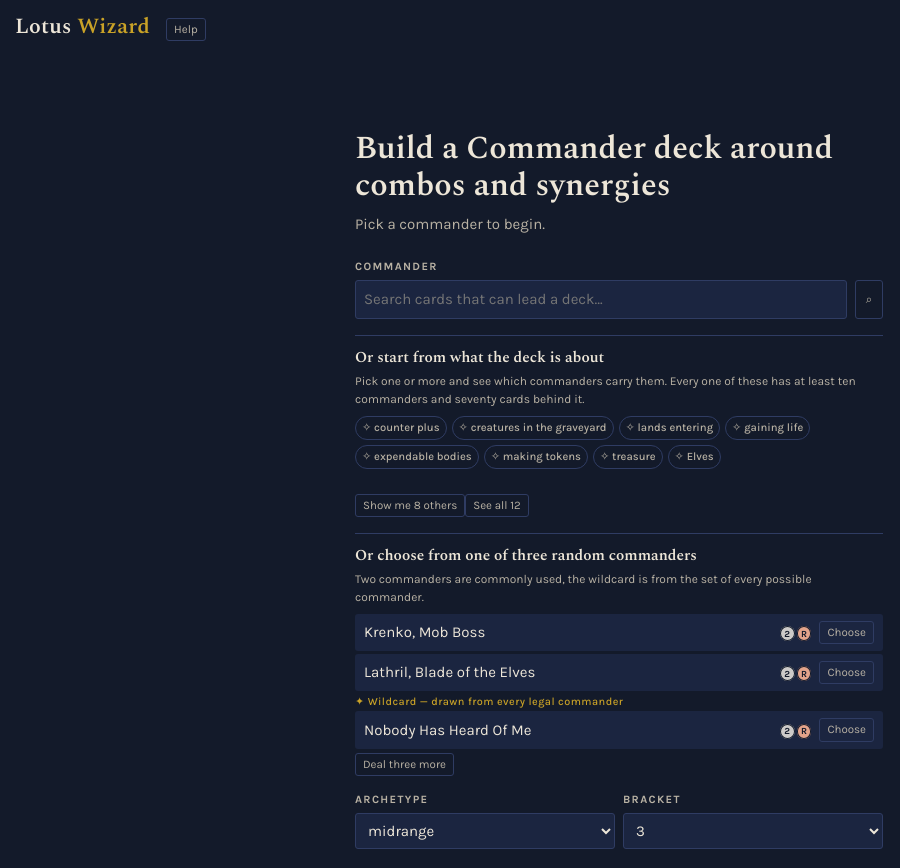
Test: both routes sit beside the commander search, not instead of it › puts both routes away once a commander is settled
The width and height of the screenshot is (900, 868).
Expected: the field labelled "Commander" is shown, [355,280,847,319]
Click the button with aria-label "Choose Krenko, Mob Boss".
click(847, 632)  # box [819,620,874,644]
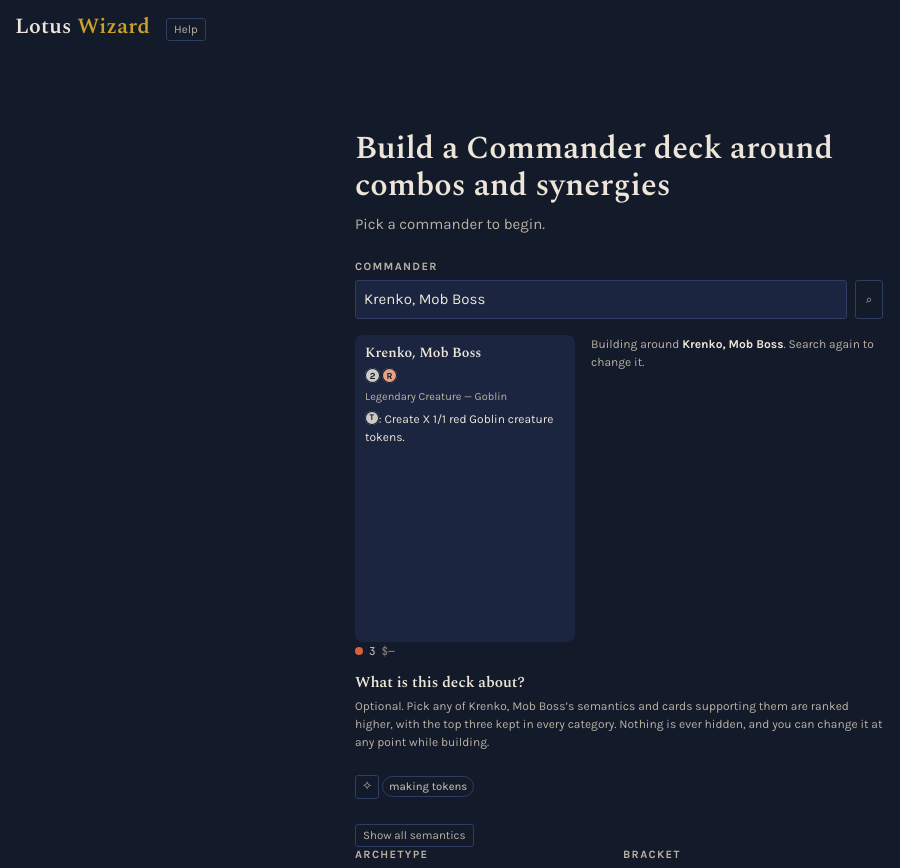
Result: the heading "Or start from what the deck is about" is gone
Result: the heading "Or choose from one of three random commanders" is gone
Result: the text "Building around Krenko, Mob Boss. Search again to change it." is shown at [591,335,883,371]
